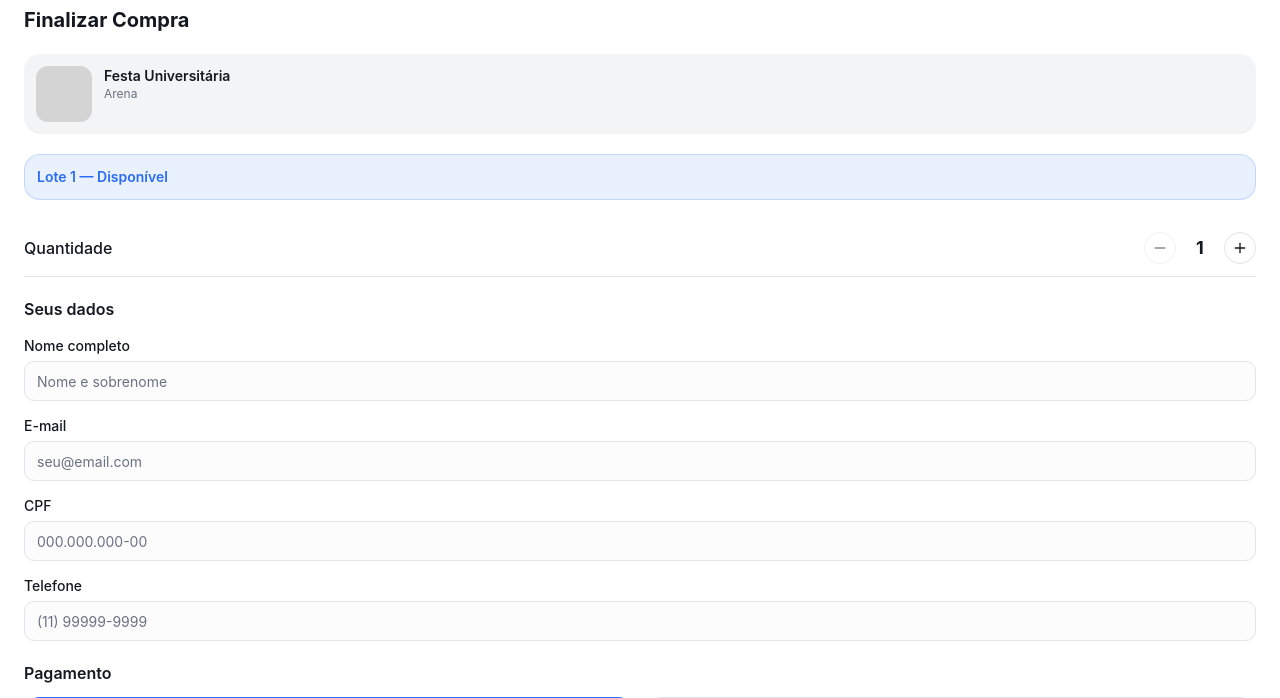
Test: CheckoutPanel (desktop) – validação inline › exige nome e sobrenome, e-mail válido, CPF com dígitos verificadores e telefone com DDD
Type "Ana" into the field labelled "Nome completo" at (640, 381), box [24, 361, 1256, 401]
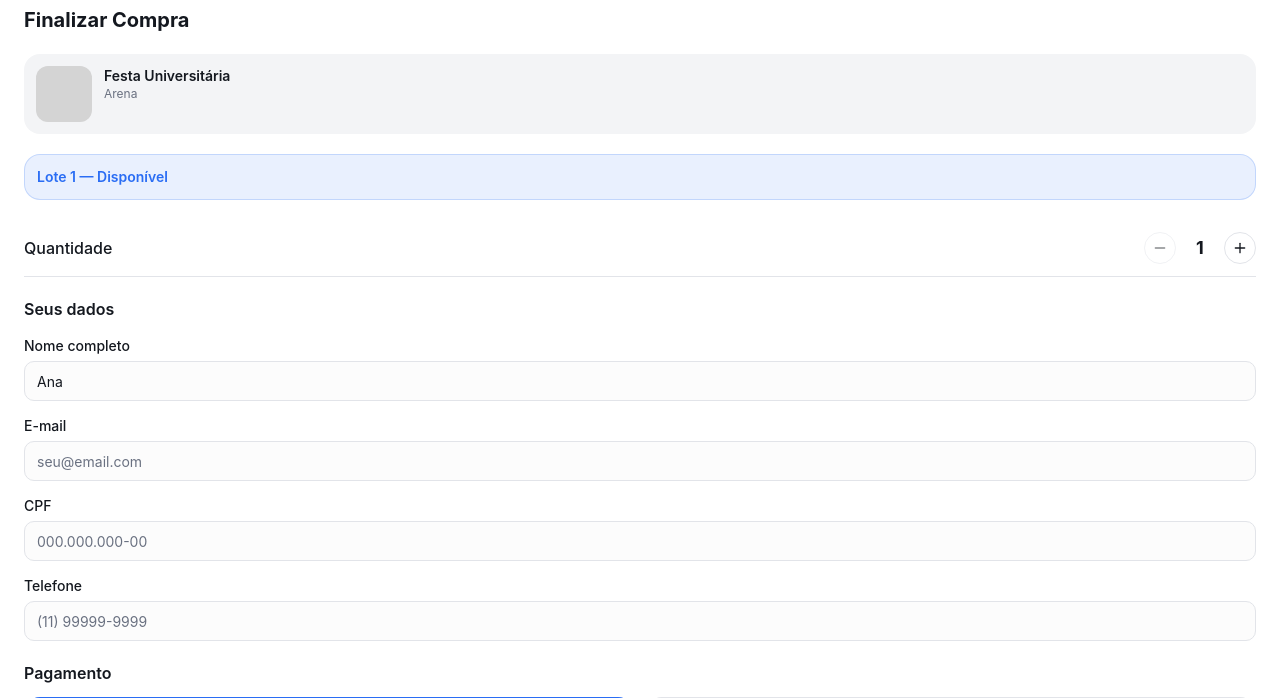
Type "ana@email" into the field labelled "E-mail" at (640, 461), box [24, 441, 1256, 481]
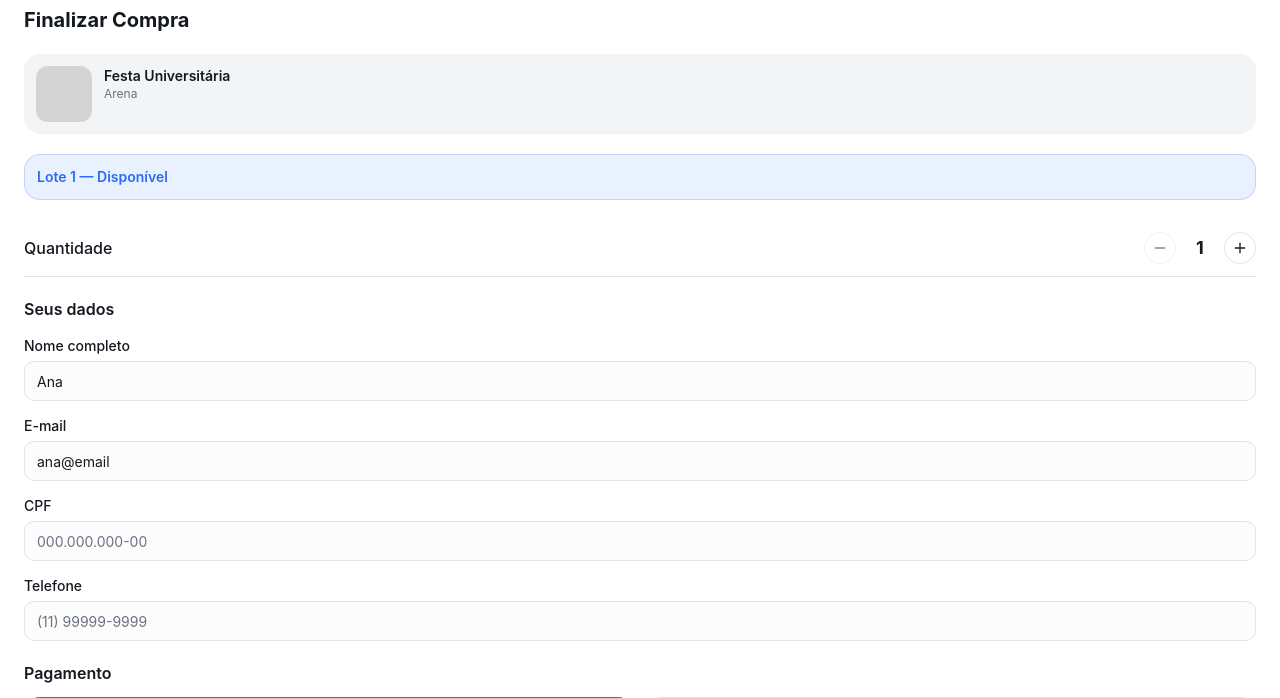
Type "11111111111" into the field labelled "CPF" at (640, 541), box [24, 521, 1256, 561]
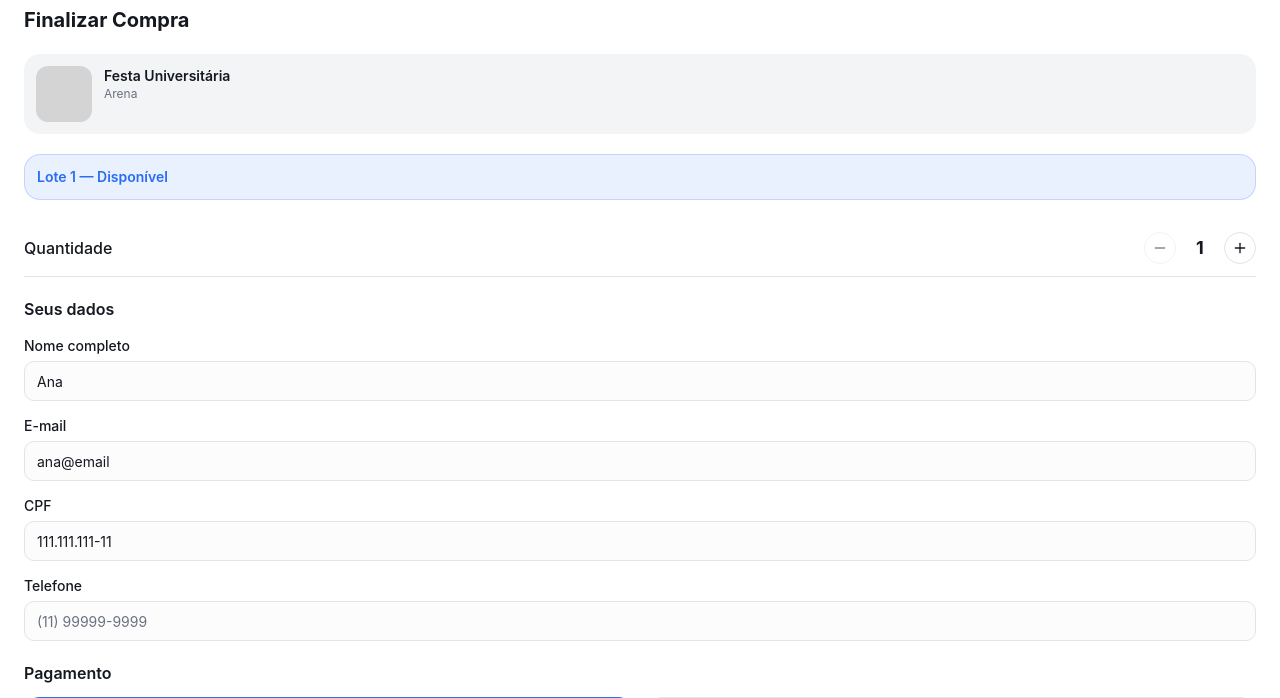
Type "119" into the field labelled "Telefone" at (640, 621), box [24, 601, 1256, 641]
(page scrolled)
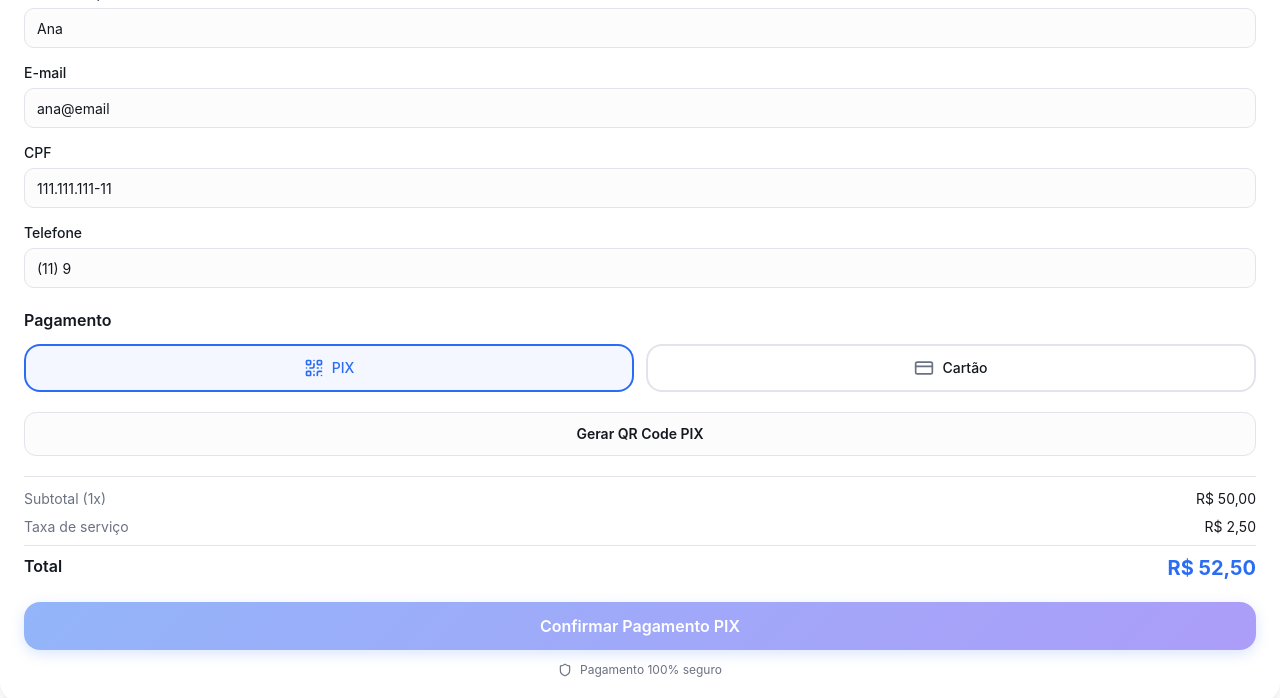
Click the button "Gerar QR Code PIX" at (640, 434), box [24, 412, 1256, 456]
(page scrolled)
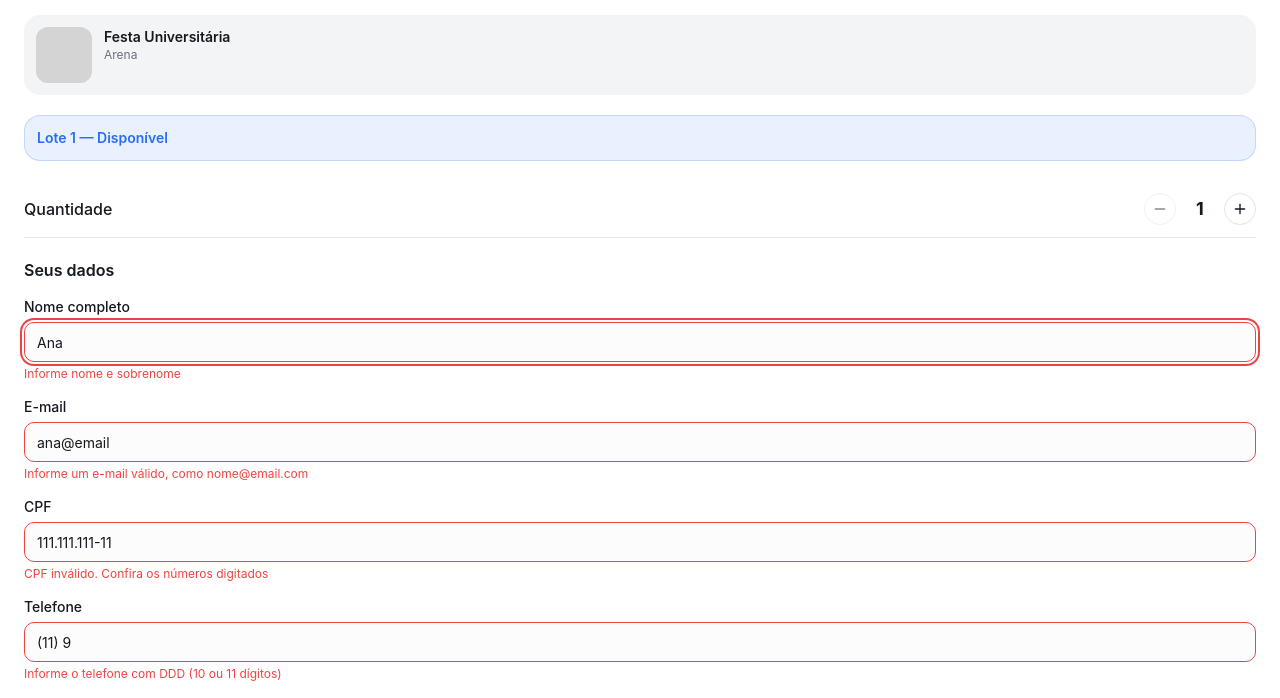
Now the text "Informe nome e sobrenome" is shown, box [24, 366, 181, 381]
Now the text "Informe um e-mail válido, como nome@email.com" is shown, box [24, 466, 308, 481]
Now the text "CPF inválido. Confira os números digitados" is shown, box [24, 566, 268, 581]
